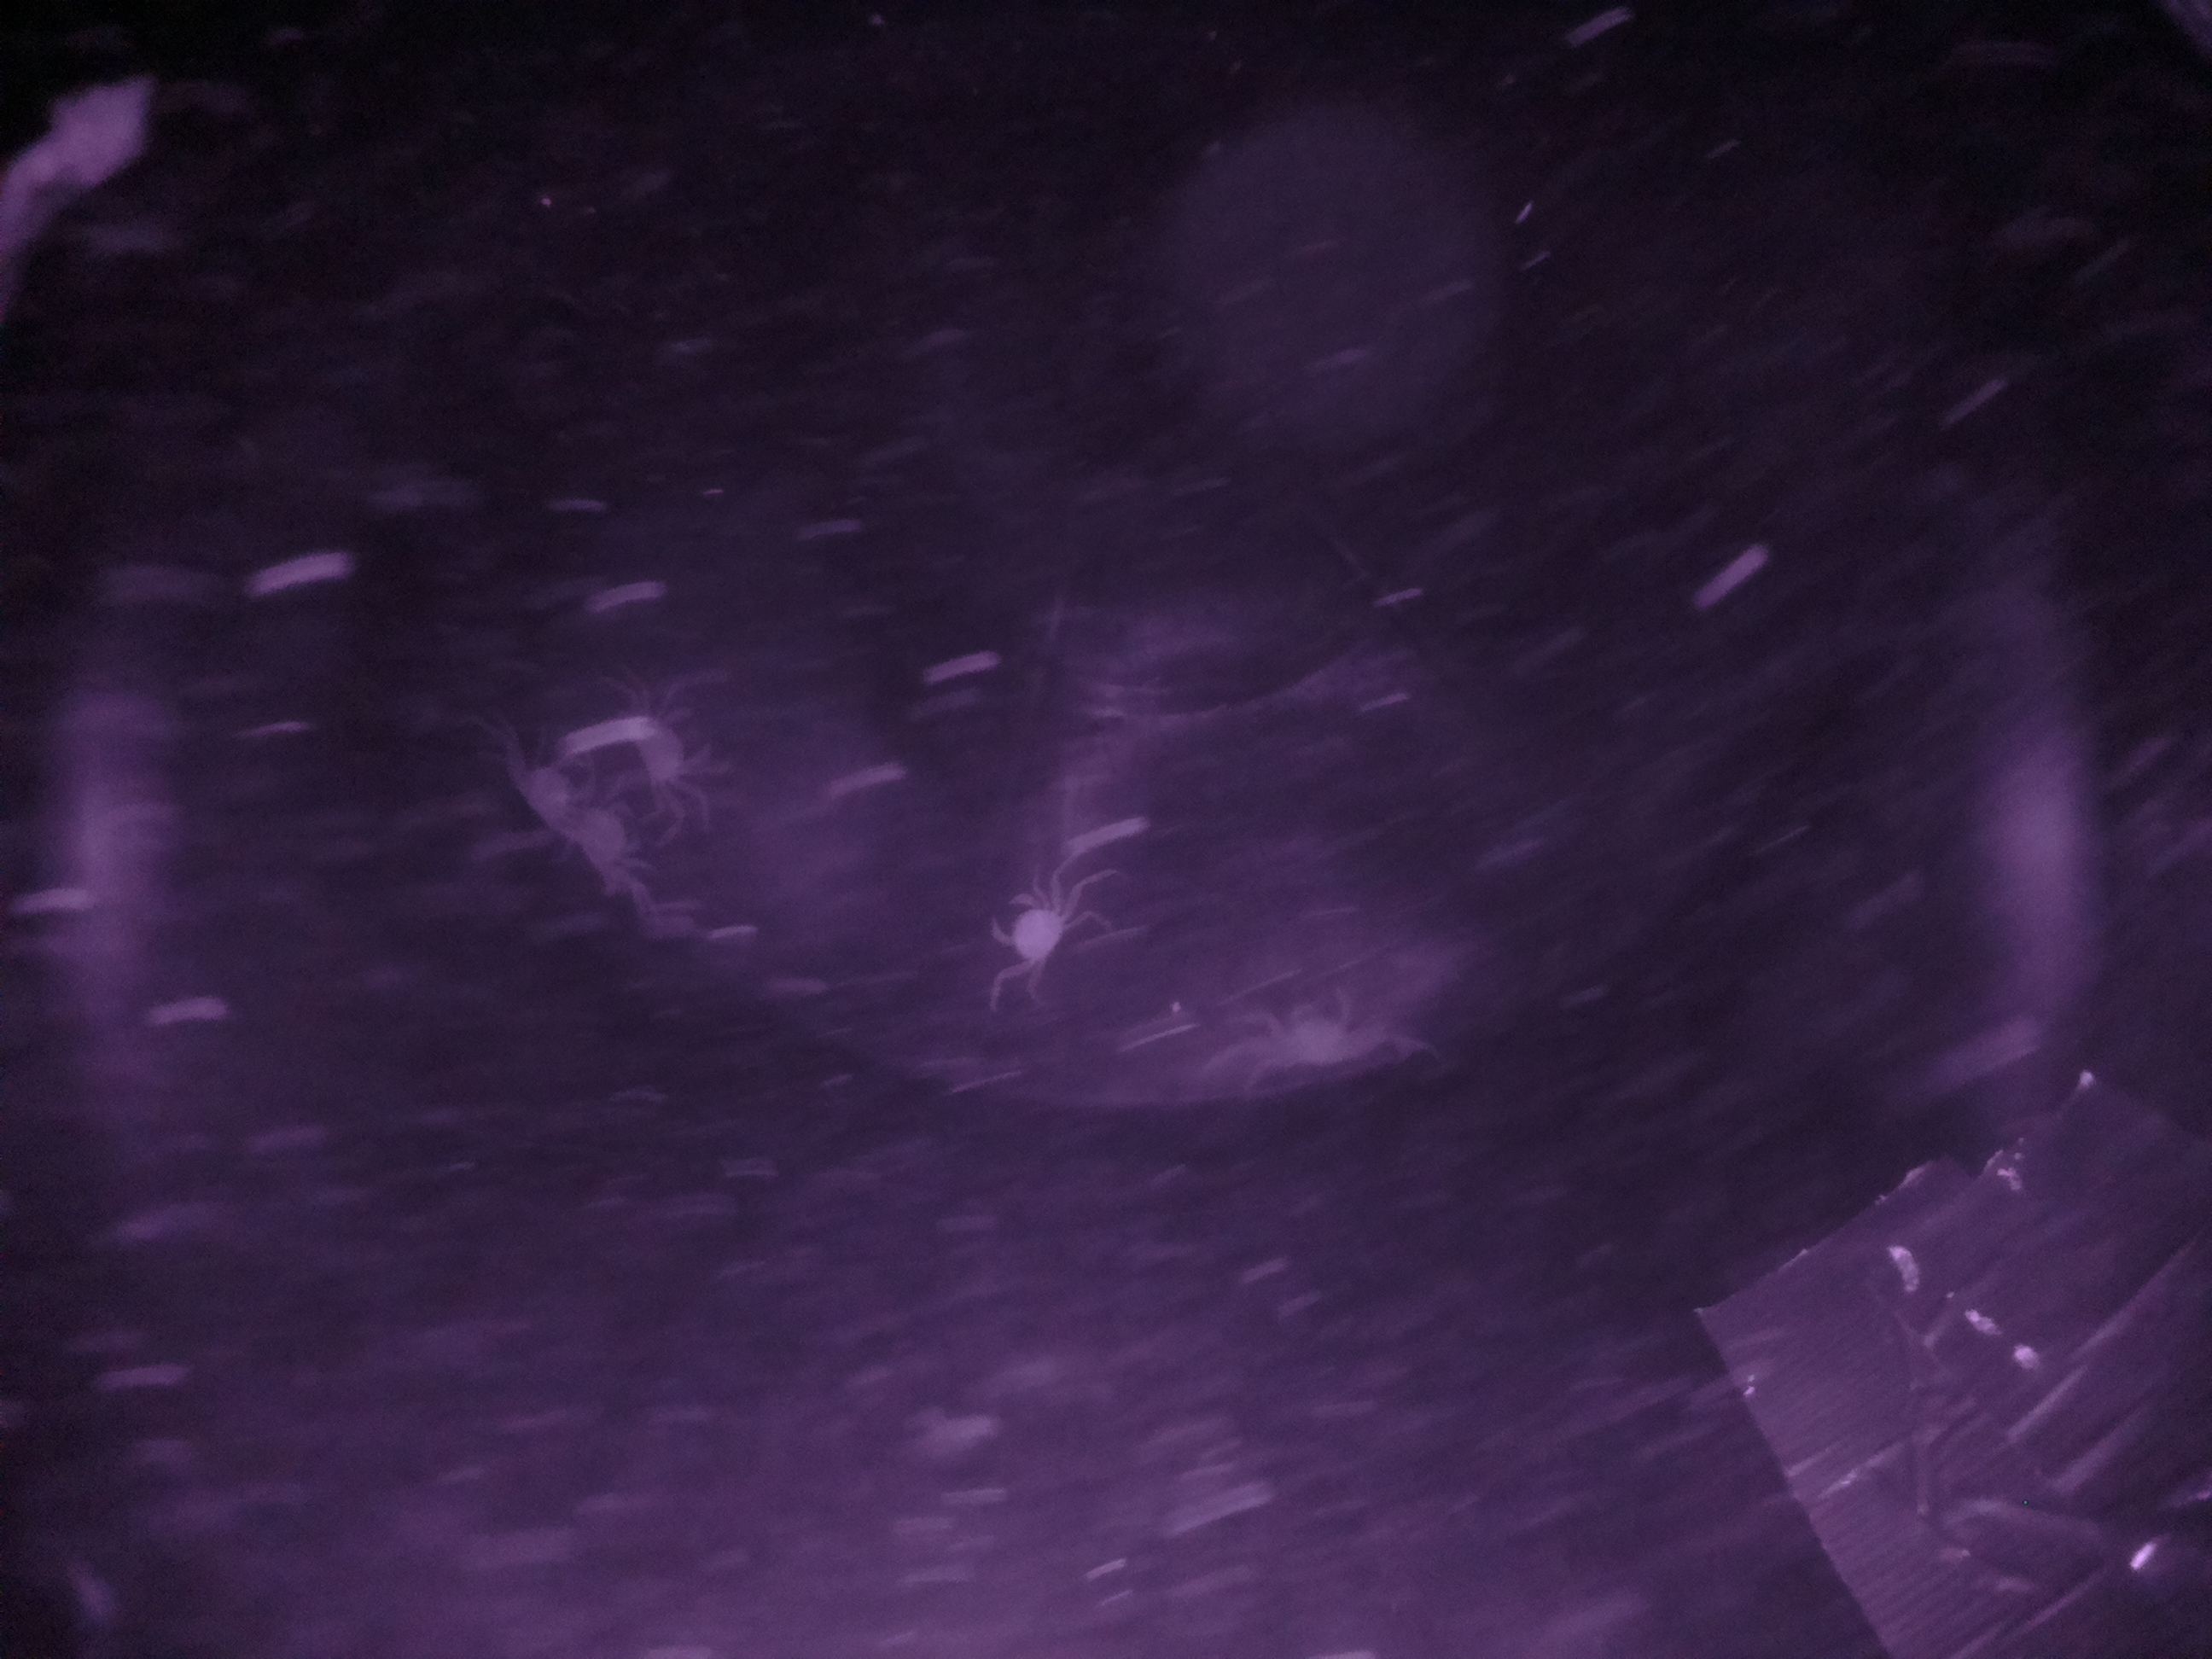Crab: (1247, 981, 1400, 1087), (982, 875, 1101, 988)
